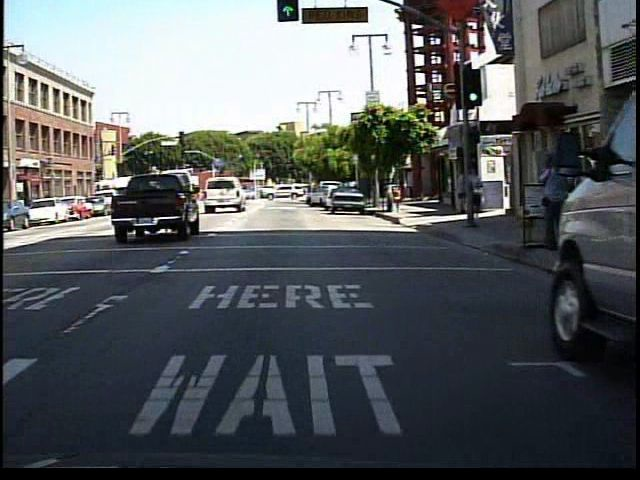person: (462, 161, 486, 228)
